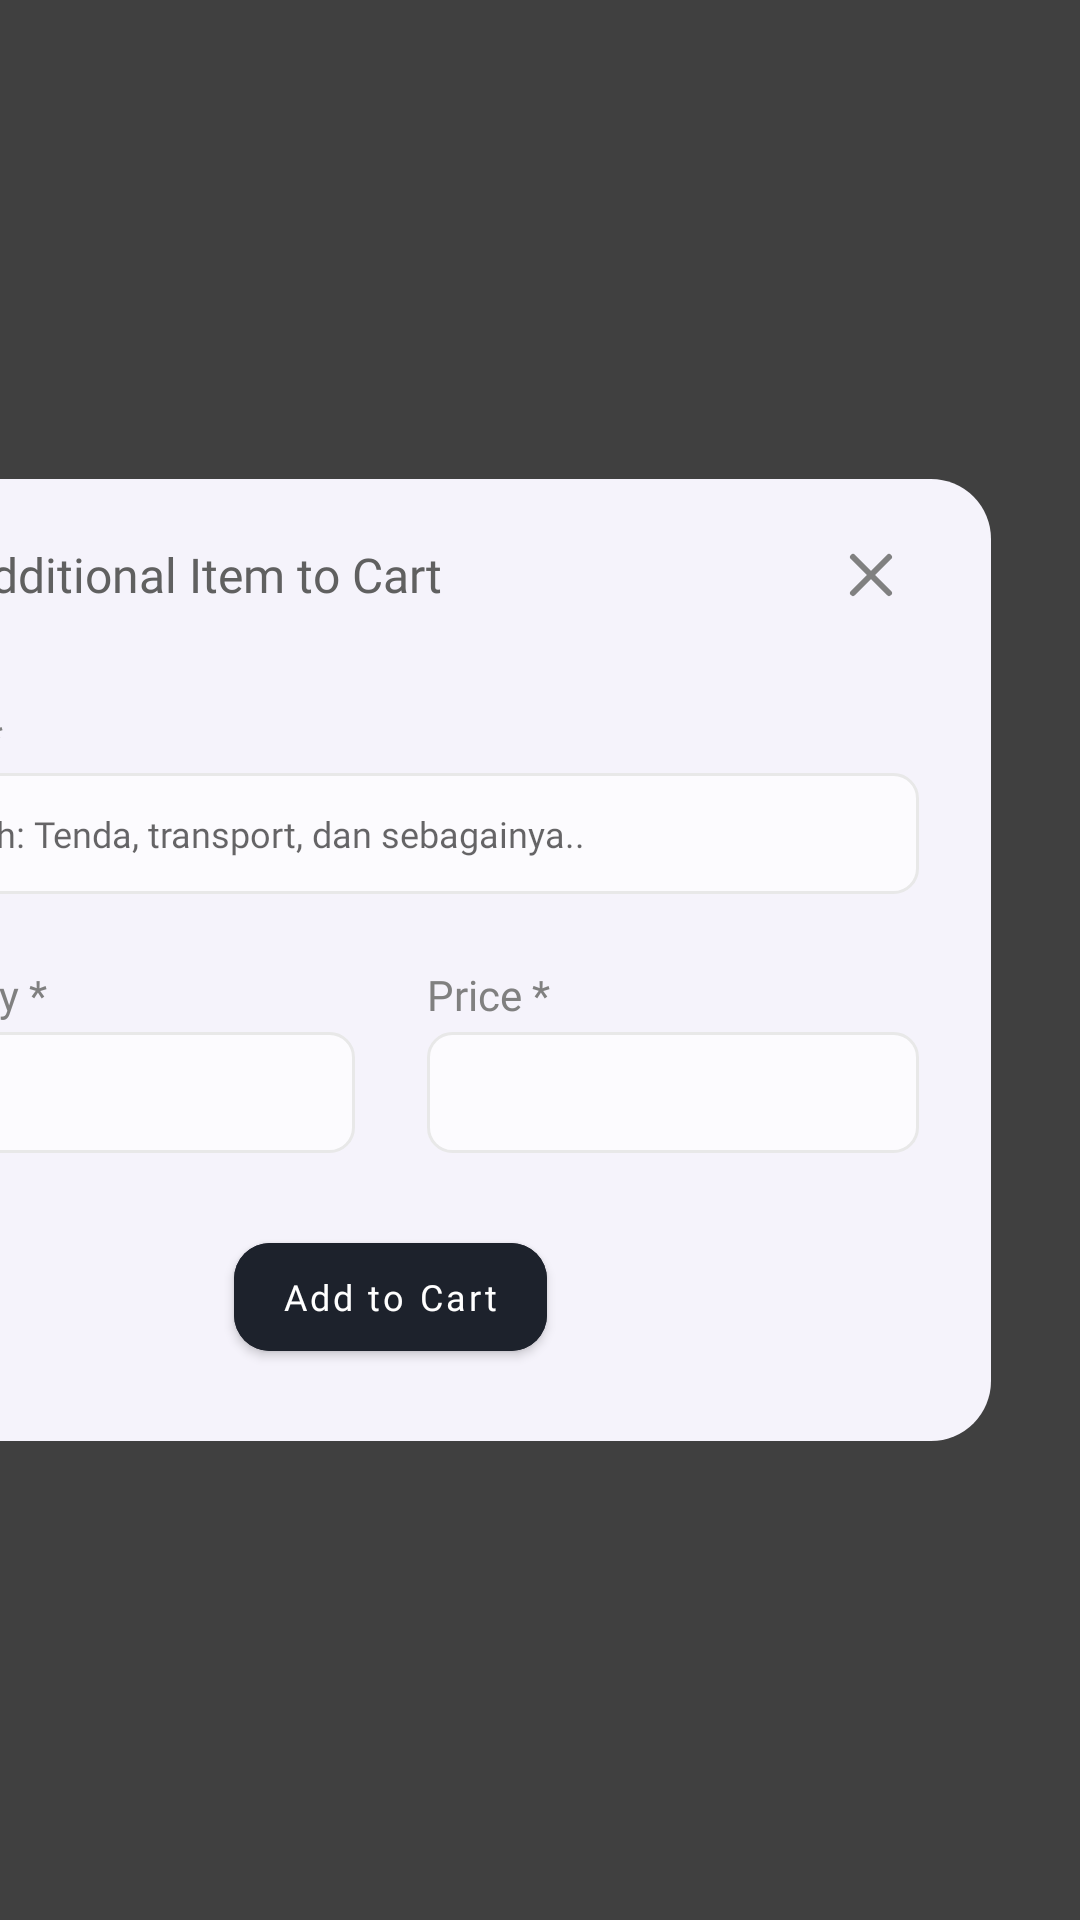

Locate icon controls on the screen. Image size 1080×1920, boxes as (x1, y1, x2, y2).
close: (850, 554, 892, 596)
